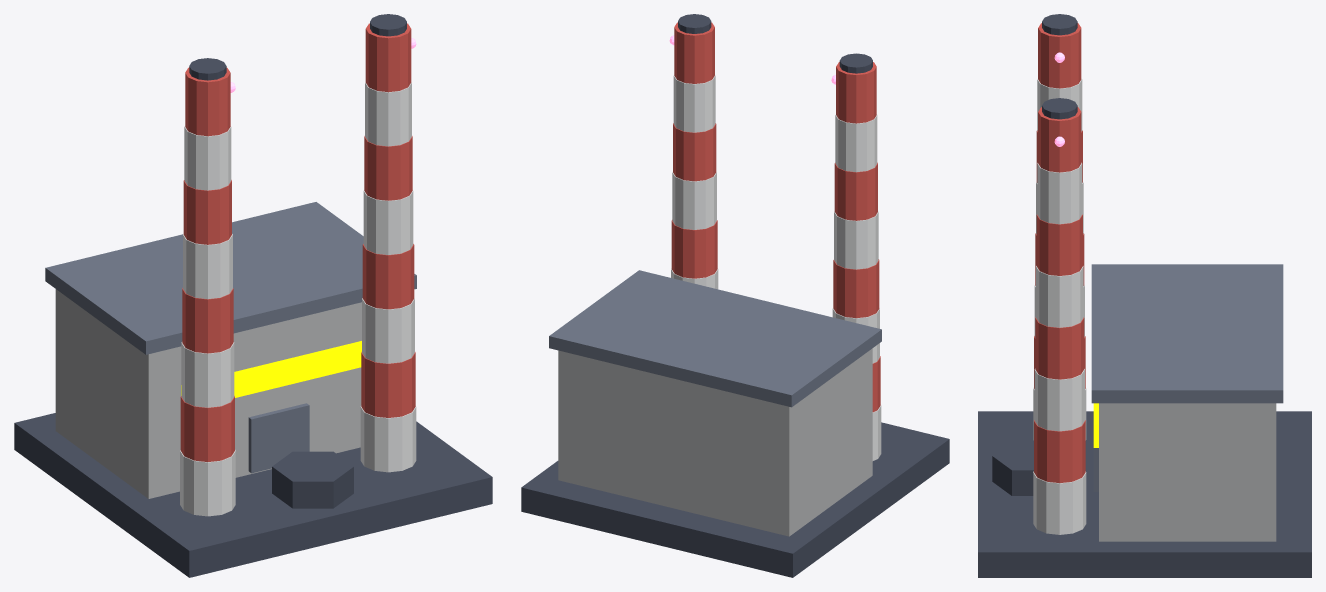
Rendered from coal_plant.glb.
The picture shows the model from 3 angles, left to right: view 1: azimuth 30°, elevation 25°; view 2: azimuth 150°, elevation 25°; view 3: azimuth 270°, elevation 25°; orthographic projection. The views are drawn at different scales.
Parts seen in each view (by area): view 1: BoilerHall, plinth, HallRoof, CoalPile, HallWindows, HallDoor, Stack_1_seg0, Stack_0_seg0, Stack_0_seg1, Stack_1_seg1, Stack_0_seg2, Stack_1_seg2 (+12 smaller); view 2: BoilerHall, HallRoof, plinth, Stack_0_seg3, Stack_1_seg3, Stack_0_seg4, Stack_1_seg4, Stack_1_seg5, Stack_0_seg5, Stack_0_seg6, Stack_1_seg6, Stack_1_seg7 (+3 smaller); view 3: HallRoof, BoilerHall, plinth, Stack_1_seg0, Stack_1_seg1, Stack_1_seg2, Stack_1_seg3, Stack_1_seg4, Stack_1_seg5, Stack_1_seg6, Stack_0_seg7, Stack_1_seg7 (+4 smaller).
Boxes of the visible parts, x1,y1,x2,y2 form: BoilerHall: (55,289,361,498); plinth: (14,413,492,577); HallRoof: (45,202,416,354); CoalPile: (272,451,353,508); HallWindows: (181,341,361,397); HallDoor: (248,403,309,473); Stack_1_seg0: (360,406,416,472); Stack_0_seg0: (180,450,235,516); Stack_0_seg1: (180,396,234,461); Stack_1_seg1: (361,352,415,417); Stack_0_seg2: (181,342,234,407); Stack_1_seg2: (362,298,414,363); BoilerHall: (558,348,872,536); HallRoof: (549,270,881,407); plinth: (521,422,949,577); Stack_0_seg3: (833,259,879,318); Stack_1_seg3: (671,220,717,278); Stack_0_seg4: (834,211,878,269); Stack_1_seg4: (672,171,716,229); Stack_1_seg5: (673,123,716,181); Stack_0_seg5: (834,162,877,220); Stack_0_seg6: (835,114,877,172); Stack_1_seg6: (673,75,715,132); Stack_1_seg7: (674,22,714,83); HallRoof: (1091,264,1283,403); BoilerHall: (1099,403,1276,541); plinth: (978,411,1311,577); Stack_1_seg0: (1033,471,1086,534); Stack_1_seg1: (1034,420,1085,483); Stack_1_seg2: (1034,368,1084,431); Stack_1_seg3: (1035,317,1084,379); Stack_1_seg4: (1036,266,1083,327); Stack_1_seg5: (1036,214,1082,275); Stack_1_seg6: (1037,162,1082,224); Stack_0_seg7: (1038,23,1081,88); Stack_1_seg7: (1038,107,1081,172).
Size of the model in its own units: 0.94 by 1.38 by 0.94.
